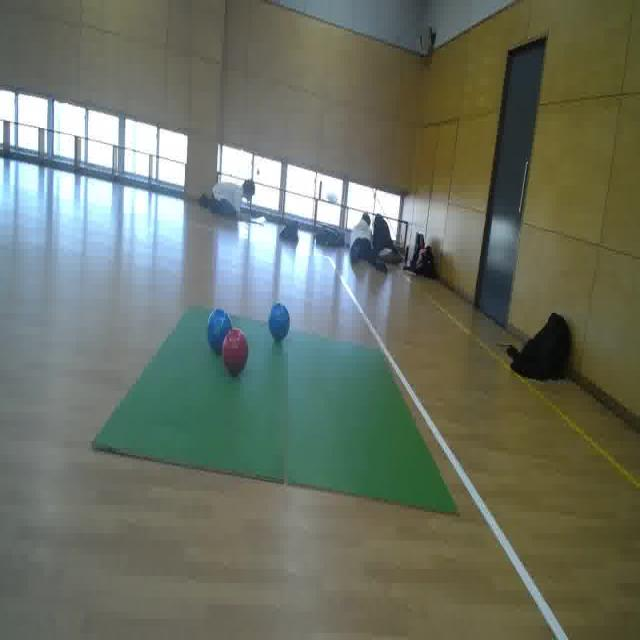blue_ball: (207, 305, 233, 356), (267, 298, 292, 347)
red_ball: (221, 329, 251, 378)
